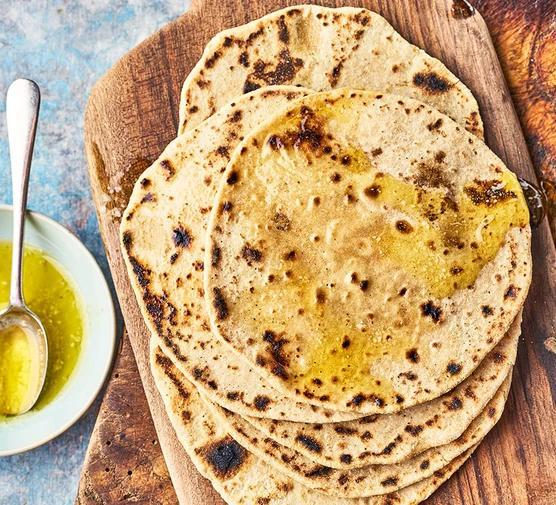roti: (209, 91, 532, 410), (117, 85, 366, 425), (151, 343, 485, 505), (249, 309, 524, 464), (176, 3, 484, 140)
